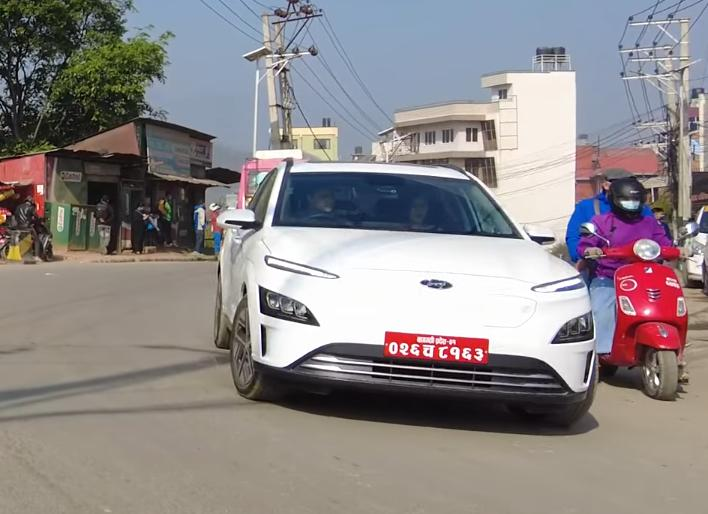car: (210, 140, 609, 426)
scooter: (573, 221, 696, 404)
